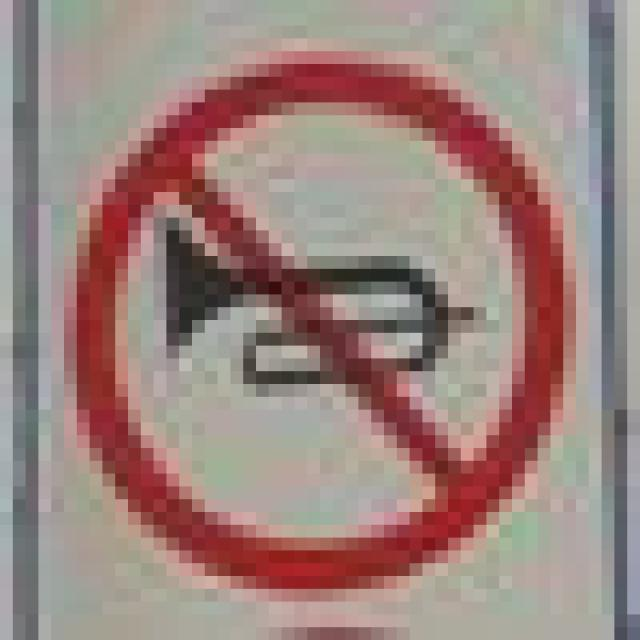horn prohibited: (44, 23, 598, 618)
